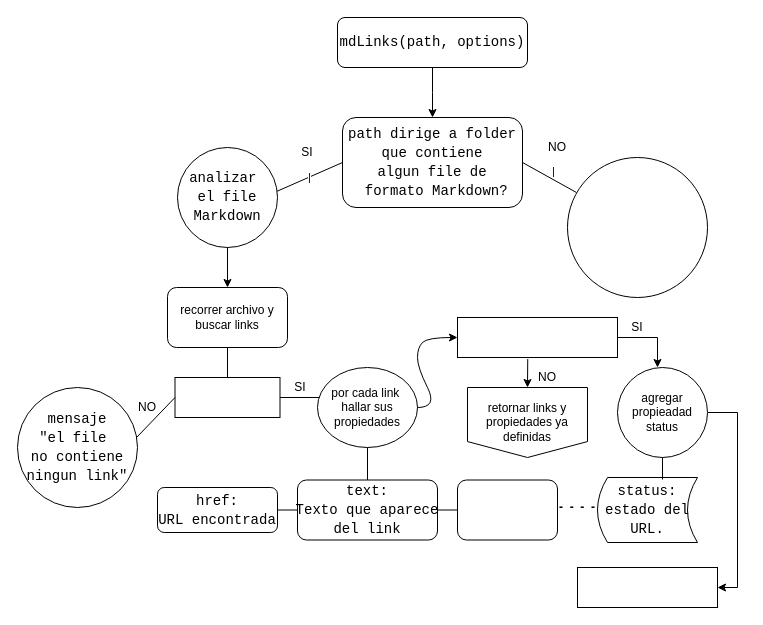
This 763x625 diagram has some shape labels left out. The shapes that lost their labels are listed below. From the top down, each one's box as (x1, y1, x2, y2) in pixels, then its label:
(566, 156, 708, 298): mensaje "el folder no contiene ningun file markdown"
(456, 316, 618, 358): options.validate = = = true
(174, 376, 280, 418): encontro links?
(456, 479, 558, 540): file: directorio del link.
(576, 566, 718, 608): retornar links con sus propiedades en total
